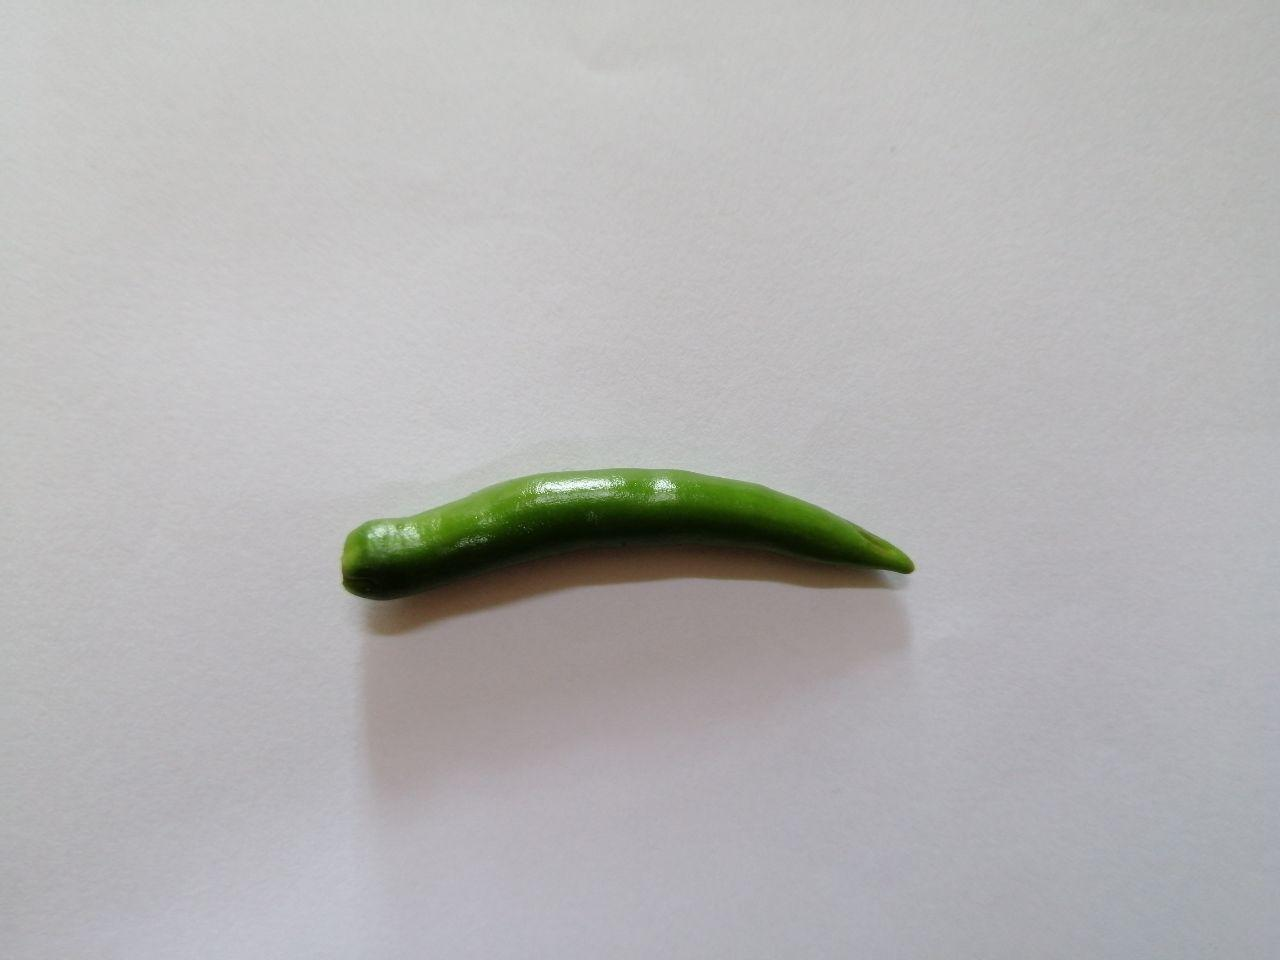lada hijau: (309, 444, 963, 625)
